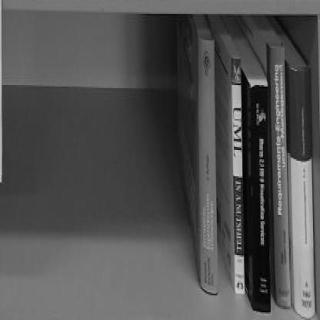book-spine: (288, 64, 316, 319), (269, 44, 292, 310), (197, 32, 218, 296), (251, 86, 271, 312), (232, 57, 245, 297)
